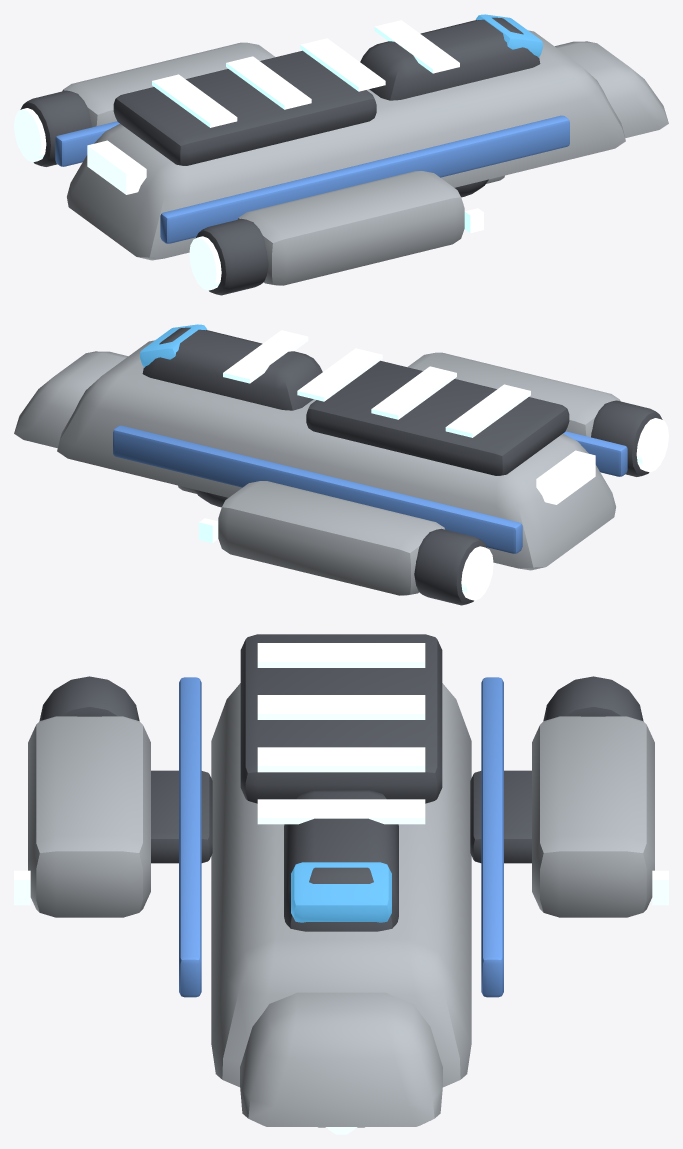
File: hum_gunship.glb
3 renders of one model, top to bottom at view 1: azimuth 30°, elevation 25°; view 2: azimuth 150°, elevation 25°; view 3: azimuth 270°, elevation 25°, orthographic. The views are drawn at different scales.
Visible parts, largest first — view 1: hum_gunship; view 2: hum_gunship; view 3: hum_gunship.
Boxes of the visible parts, <box> form: hum_gunship: <box>14,14,668,295</box>; hum_gunship: <box>14,324,668,605</box>; hum_gunship: <box>14,634,668,1126</box>.
Bounding box in the file's own units: 1.6 × 0.4419 × 1.17.
